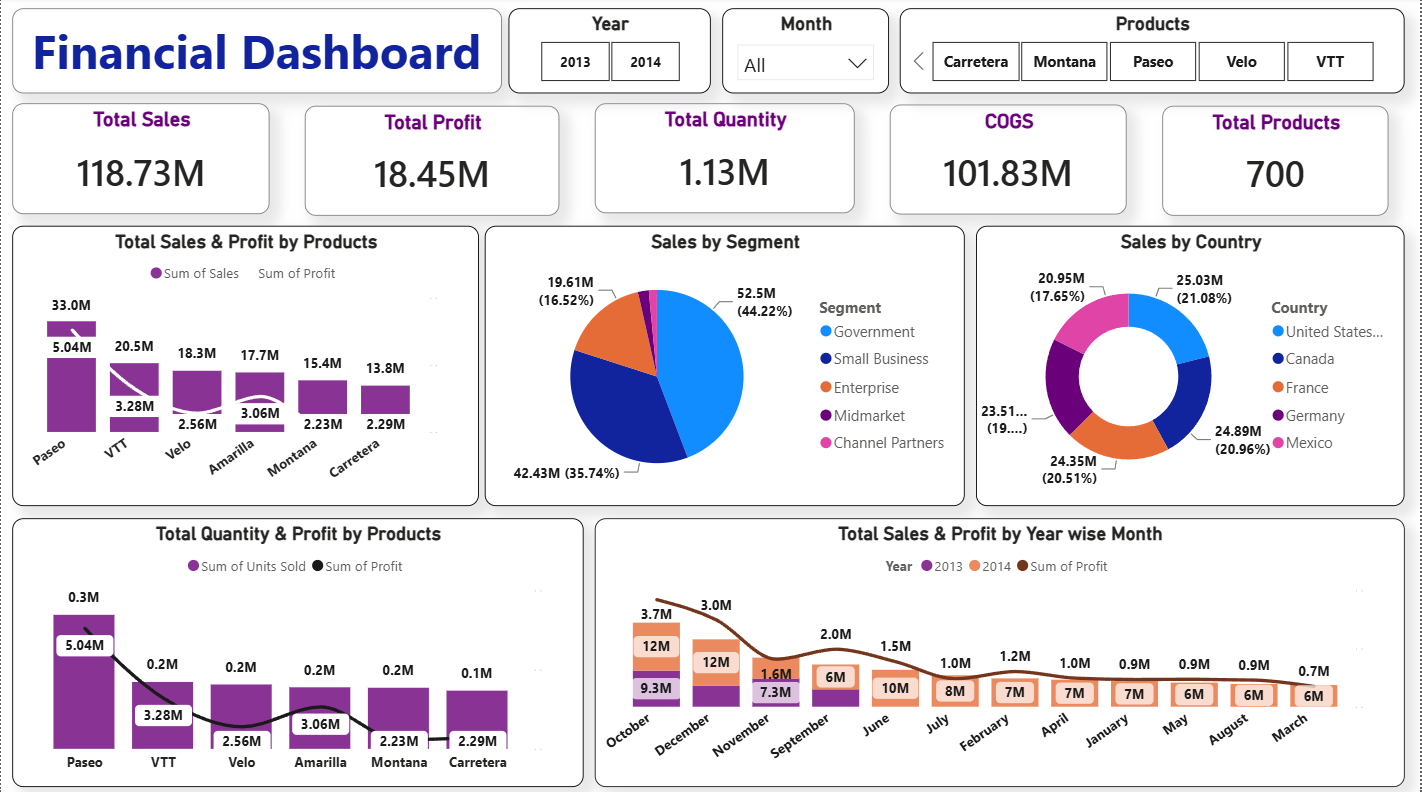

The dashboard page shown, as its layout file describes it:
{"tool":"powerbi","page":{"name":"Page 1","canvas":[1280,720],"ordinal":0},"visuals":[{"type":"textbox","box":[9.8,9.8,441.4,77],"z":0},{"type":"cardVisual","title":"Total Sales","fields":{"Data":["Sum(Finance_Data.Sales)"]},"box":[9.8,95.4,232.3,100.3],"z":1000},{"type":"cardVisual","title":"Total Profit","fields":{"Data":["Sum(Finance_Data.Profit)"]},"box":[273.6,97.8,229.9,99],"z":2000},{"type":"cardVisual","title":"Total Quantity","fields":{"Data":["Sum(Finance_Data.Units Sold)"]},"box":[535,96,234.8,99],"z":3000},{"type":"cardVisual","title":"COGS","fields":{"Data":["Sum(Finance_Data.COGS)"]},"box":[801.3,96.6,214,99],"z":4000},{"type":"cardVisual","title":"Total Products","fields":{"Data":["CountNonNull(Finance_Data.Product)"]},"box":[1046.7,97.8,204.2,99],"z":5000},{"type":"lineStackedColumnComboChart","title":"Total Sales & Profit by Products","fields":{"Category":["Finance_Data.Product"],"Y":["Sum(Finance_Data.Sales)"],"Y2":["Sum(Finance_Data.Profit)"]},"box":[9.8,206.7,420.7,253.1],"z":6000},{"type":"pieChart","title":"Sales by Segment","fields":{"Y":["Sum(Finance_Data.Sales)"],"Category":["Finance_Data.Segment"]},"box":[436.6,206.7,432.9,253.1],"z":7000},{"type":"donutChart","title":"Sales by Country","fields":{"Y":["Sum(Finance_Data.Sales)"],"Category":["Finance_Data.Country"]},"box":[879.2,206.7,386.4,253.1],"z":7001},{"type":"lineStackedColumnComboChart","title":"Total Quantity & Profit by Products","fields":{"Category":["Finance_Data.Product"],"Y2":["Sum(Finance_Data.Profit)"],"Y":["Sum(Finance_Data.Units Sold)"]},"box":[9.8,469.6,514.8,242.1],"z":7002},{"type":"lineStackedColumnComboChart","title":"Total Sales & Profit by Year wise Month","fields":{"Category":["Finance_Data.Month Name"],"Y":["Sum(Finance_Data.Sales)"],"Y2":["Sum(Finance_Data.Profit)"],"Series":["Finance_Data.Year"]},"box":[535.6,469.6,730,242.1],"z":7003},{"type":"slicer","title":"Year","fields":{"Values":["Finance_Data.Year"]},"box":[457.3,9.8,182.2,77],"z":7004},{"type":"slicer","title":"Month","fields":{"Values":["Finance_Data.Month Name"]},"box":[650.5,9.8,150.4,77],"z":7005},{"type":"slicer","title":"Products","fields":{"Values":["Finance_Data.Product"]},"box":[810.7,9.8,454.9,77],"z":7006}]}

Visuals, with their boxes in screenshot pixels (x1, y1, x2, y2), scaled from the page's 1280x720 canvas onto the 1422x792 screenshot:
textbox: bbox=(11, 11, 501, 95)
"Total Sales" cardVisual: bbox=(11, 105, 269, 215)
"Total Profit" cardVisual: bbox=(304, 108, 559, 216)
"Total Quantity" cardVisual: bbox=(594, 106, 855, 215)
"COGS" cardVisual: bbox=(890, 106, 1128, 215)
"Total Products" cardVisual: bbox=(1163, 108, 1390, 216)
"Total Sales & Profit by Products" lineStackedColumnComboChart: bbox=(11, 227, 478, 506)
"Sales by Segment" pieChart: bbox=(485, 227, 966, 506)
"Sales by Country" donutChart: bbox=(977, 227, 1406, 506)
"Total Quantity & Profit by Products" lineStackedColumnComboChart: bbox=(11, 517, 583, 783)
"Total Sales & Profit by Year wise Month" lineStackedColumnComboChart: bbox=(595, 517, 1406, 783)
"Year" slicer: bbox=(508, 11, 710, 95)
"Month" slicer: bbox=(723, 11, 890, 95)
"Products" slicer: bbox=(901, 11, 1406, 95)
